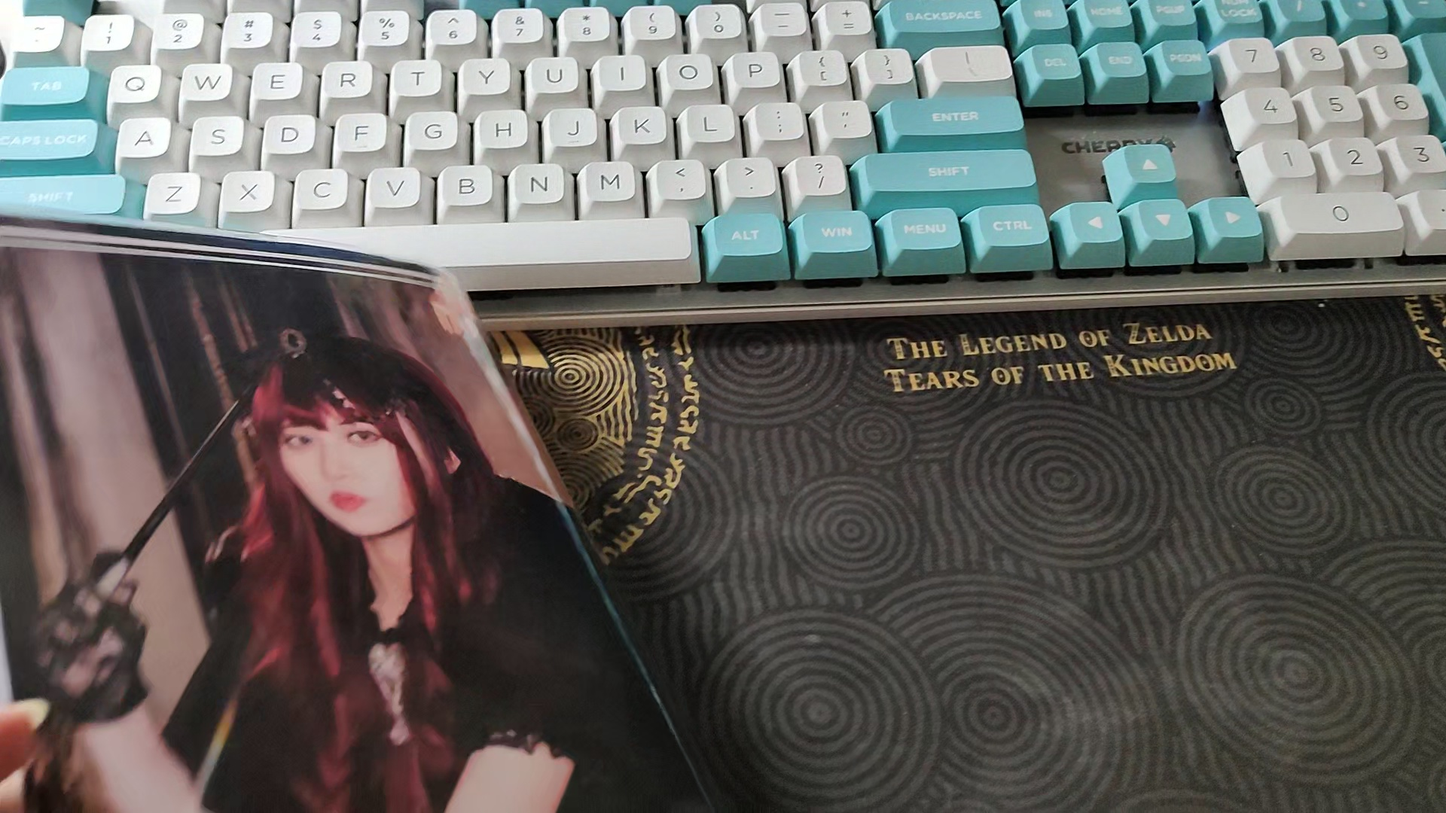Photo_book: (0, 209, 708, 813)
